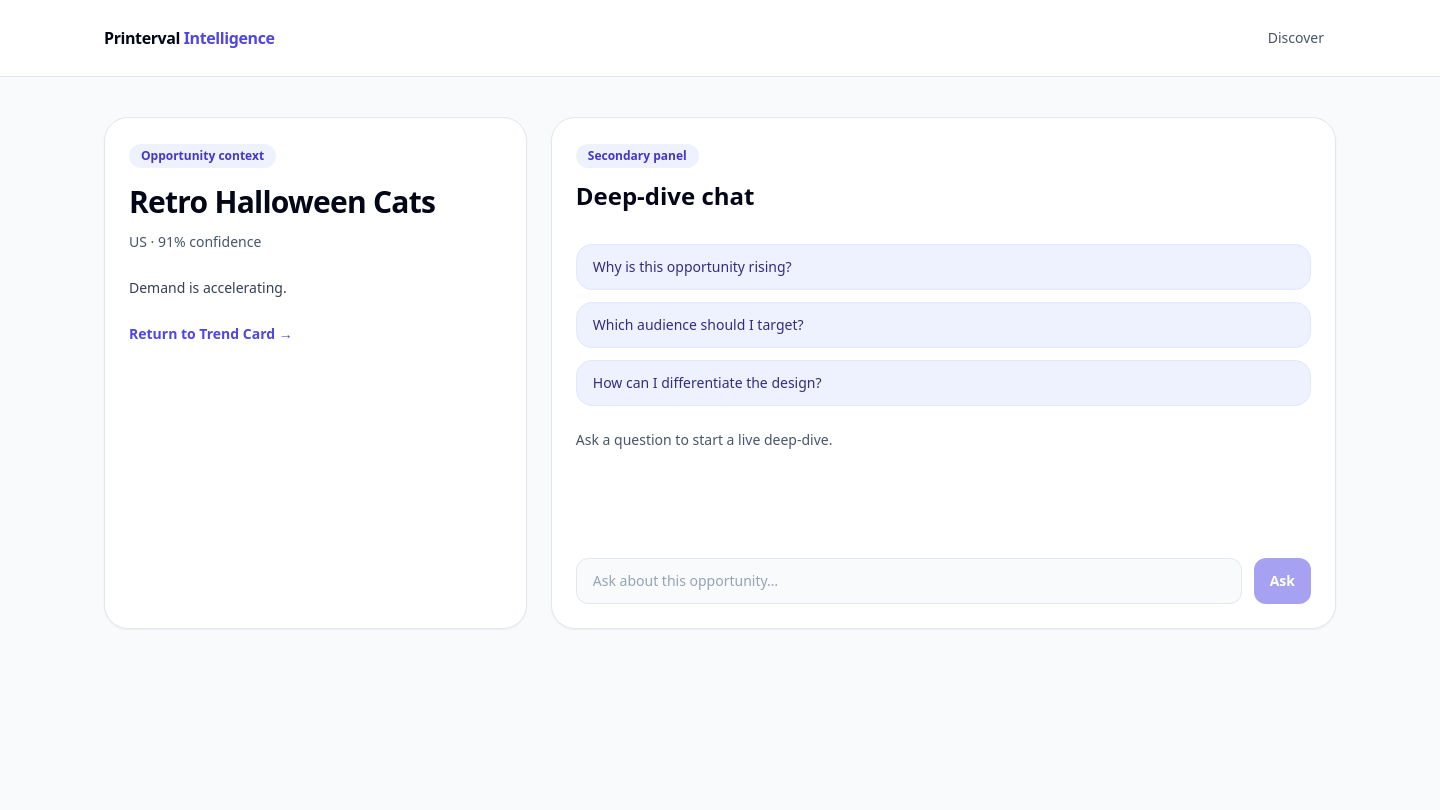
it: DeepDiveScreen › lets the seller choose and submit a deep-dive question
The image size is (1440, 810).
Expected: the button "Ask" is disabled, 1254,558 -> 1311,604
In the field with placeholder "Ask about this opportunity…": (909, 581) 576,558 -> 1242,604, type "What signals support this trend?"
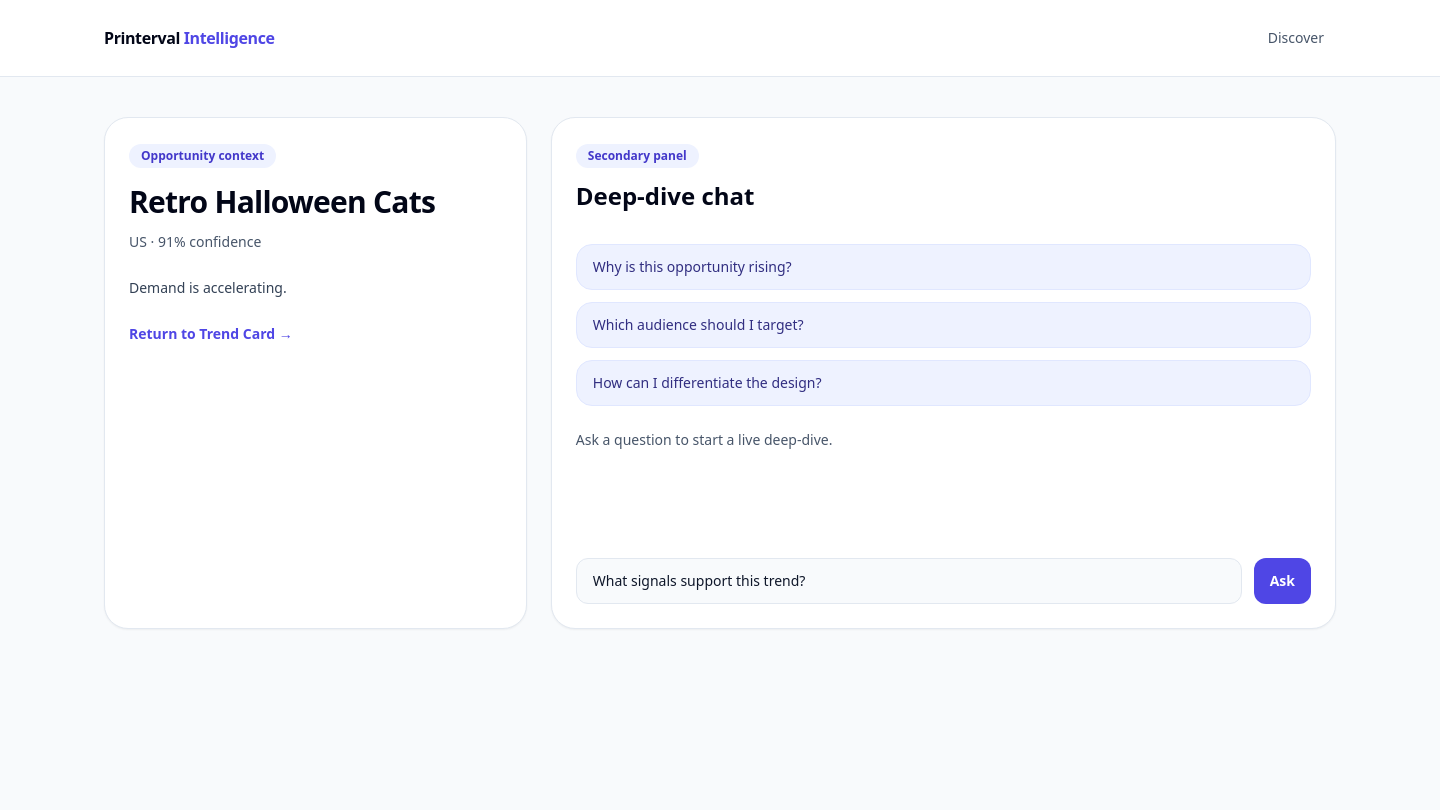
Now the button "Ask" is enabled, box 1254,558 -> 1311,604
Click the button "Which audience should I target?": (698, 324) 576,302 -> 1311,348
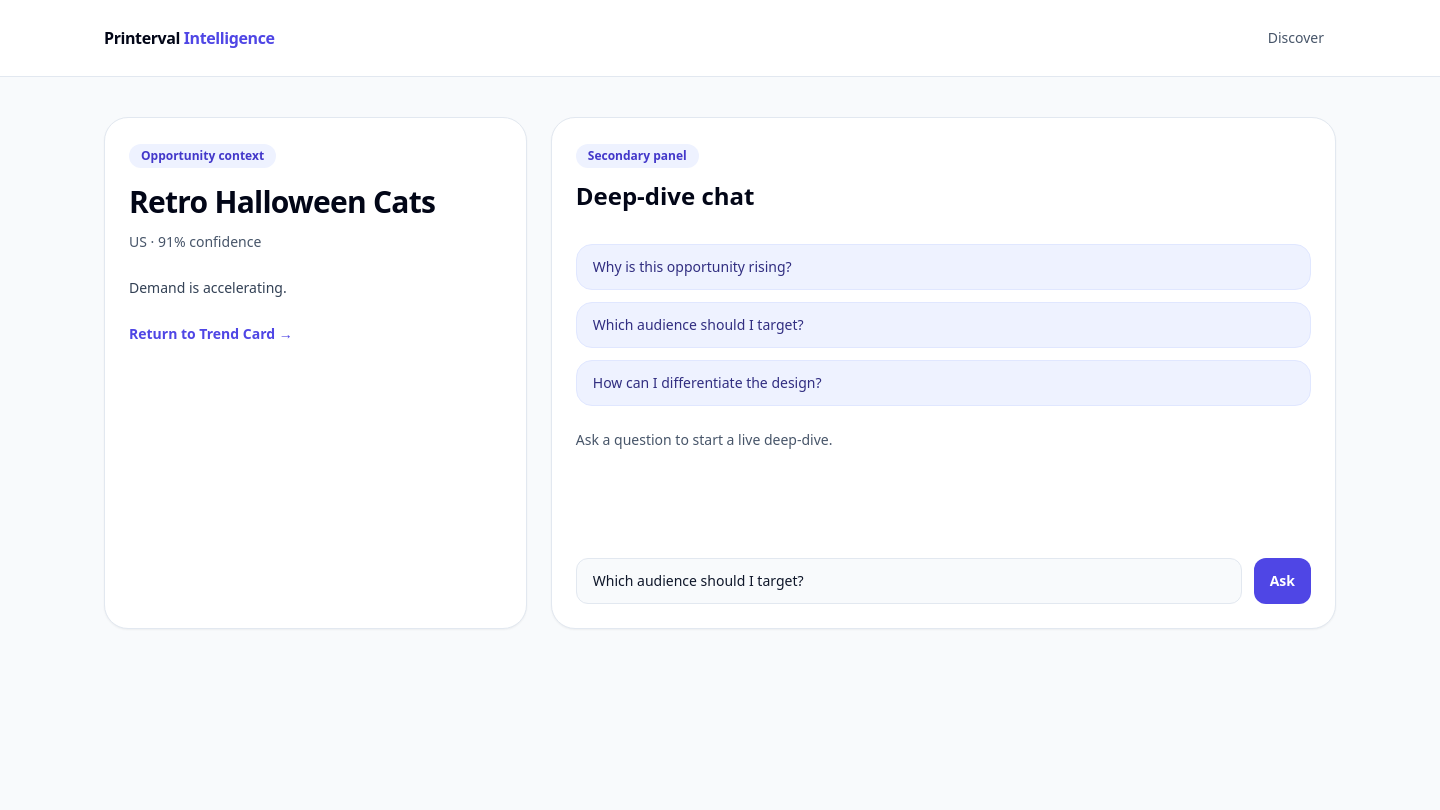
Now the button "Ask" is enabled
Now the field with placeholder "Ask about this opportunity…" holds "Which audience should I target?", box 576,558 -> 1242,604
Click the button "Ask": (1282, 581) 1254,558 -> 1311,604
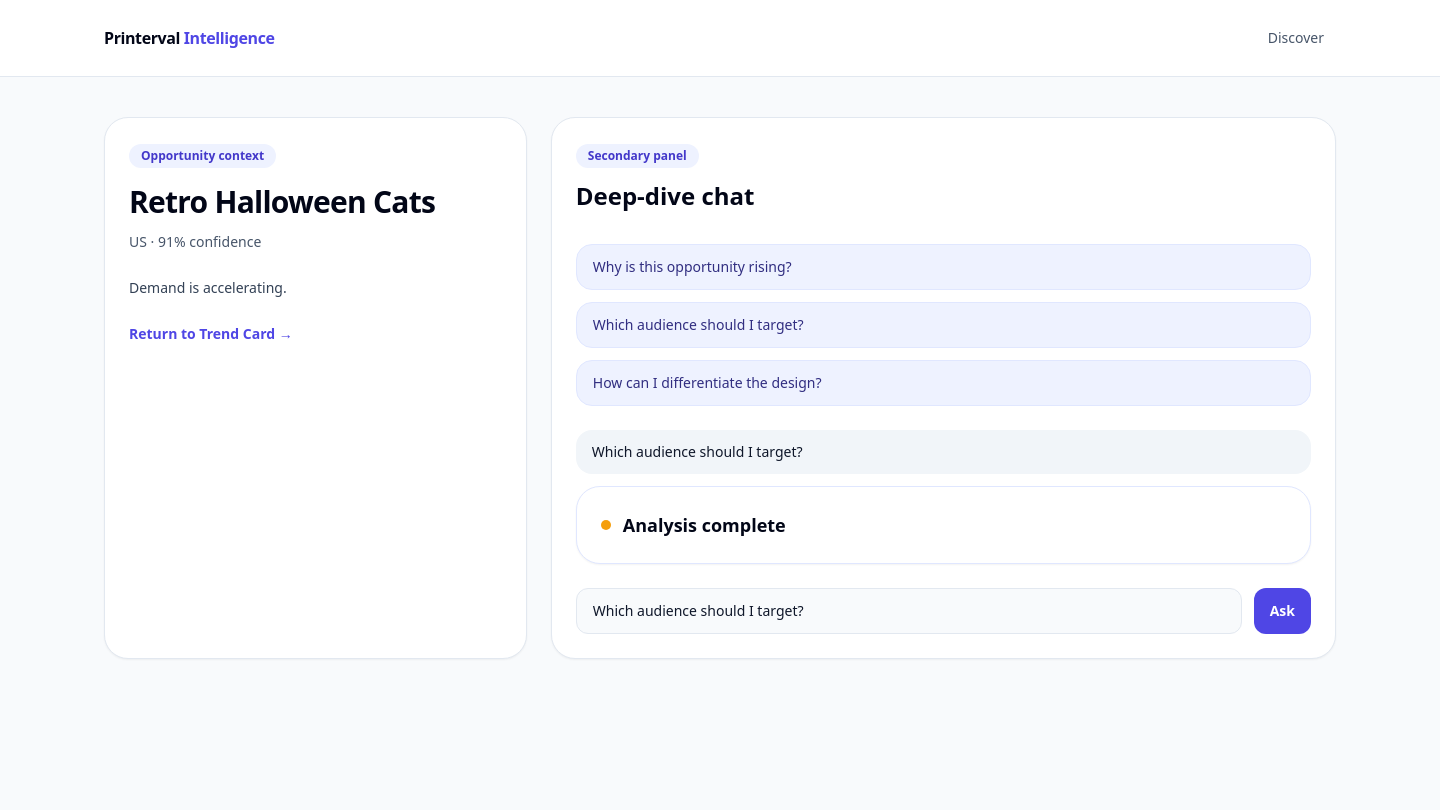
Now the heading "Waiting to start" is shown, box 623,511 -> 786,539
